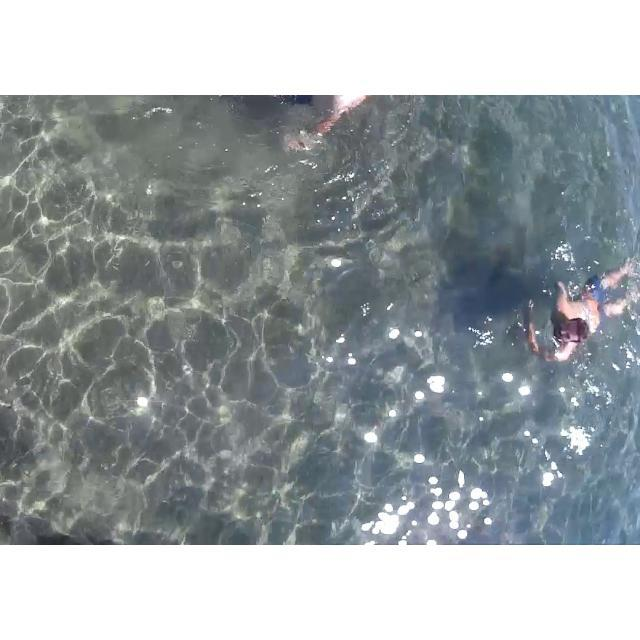human: (513, 246, 635, 374), (187, 95, 387, 169)
